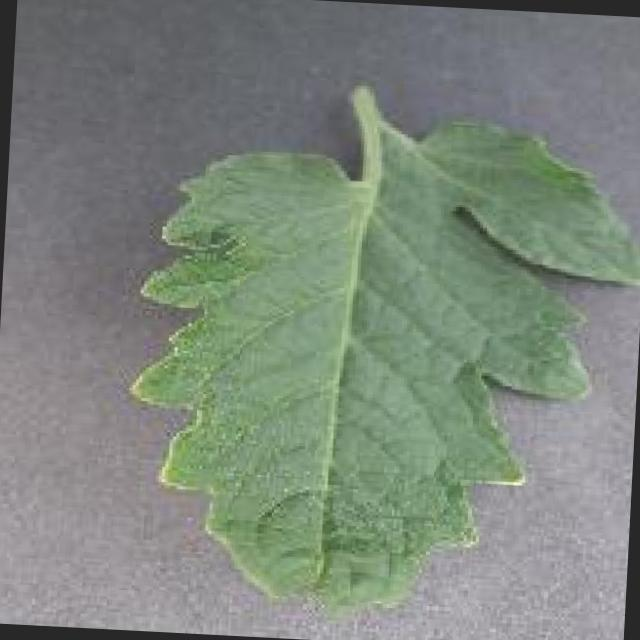healthy: (127, 98, 640, 620)
